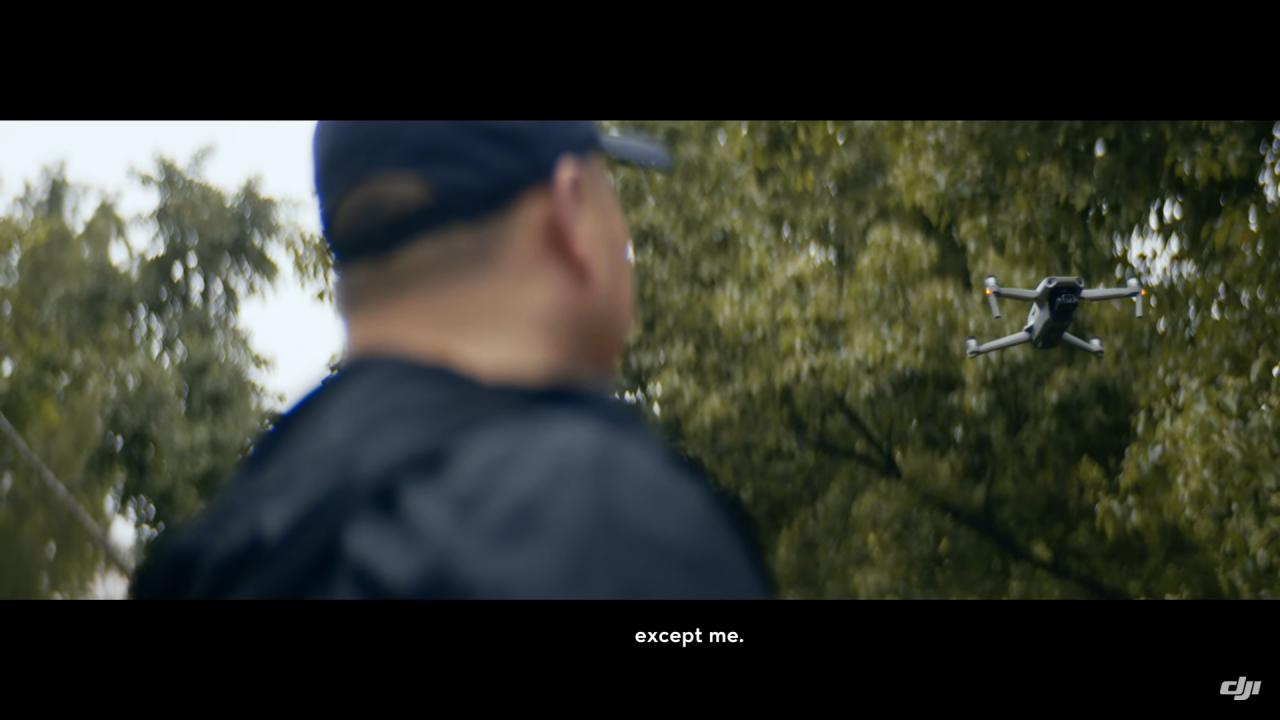Drone: (941, 258, 1160, 374)
